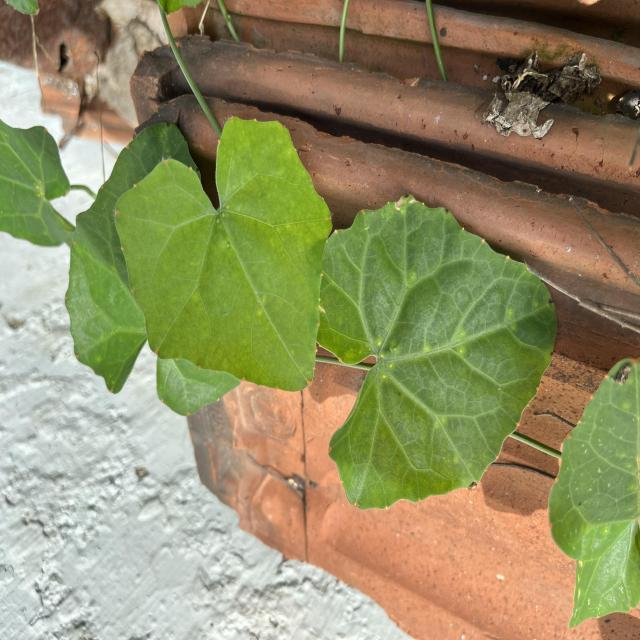Coccinia grandis: (313, 191, 560, 512), (113, 113, 334, 394)
